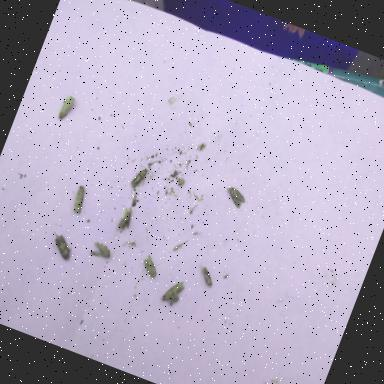pbw: (45, 230, 77, 262), (160, 276, 187, 308), (137, 252, 164, 282), (221, 184, 249, 210), (192, 262, 218, 288), (128, 163, 150, 192), (89, 238, 115, 262), (70, 184, 90, 214), (57, 93, 76, 122)
